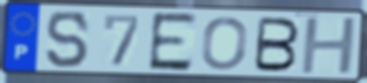7: (102, 13, 142, 68)
B: (251, 15, 302, 74)
E: (147, 11, 199, 73)
H: (298, 16, 359, 76)
O: (199, 15, 250, 72)
S: (44, 9, 91, 70)
